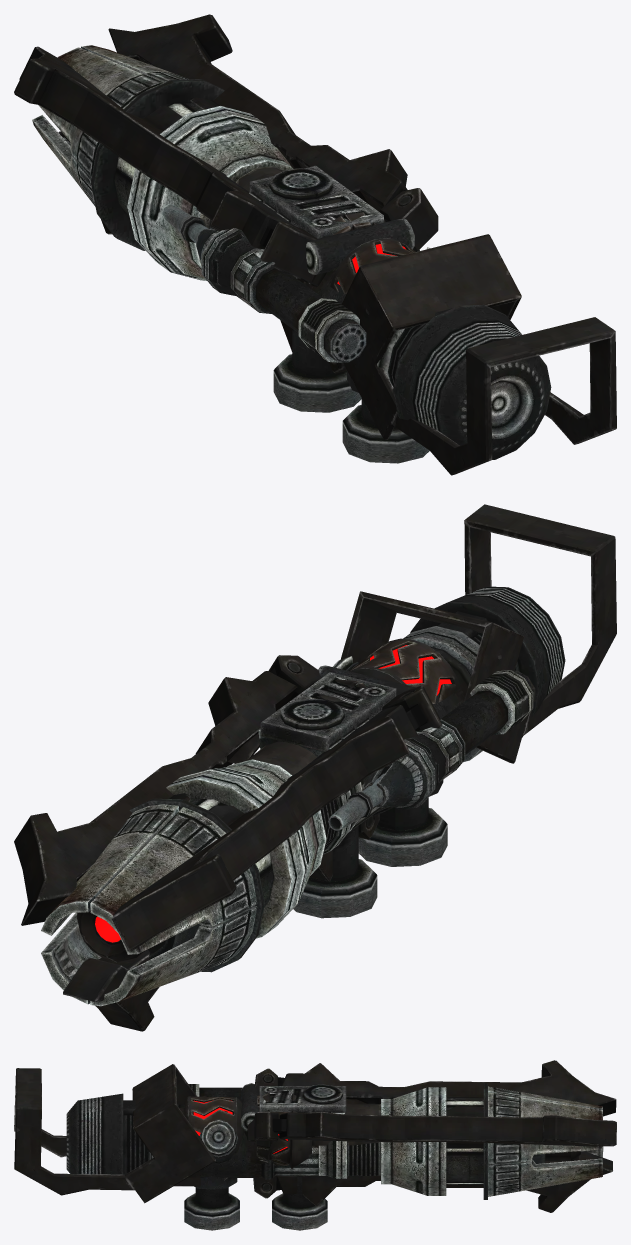
Rendered from heavy.glb.
3 views of the same model, one above another, from view 1: azimuth 30°, elevation 25°; view 2: azimuth 150°, elevation 25°; view 3: azimuth 270°, elevation 25° (orthographic). The views are drawn at different scales.
Visible parts, largest first — view 1: Object_48, Object_55; view 2: Object_48, Object_55, Object_54; view 3: Object_55, Object_48.
Boxes of the visible parts, x1,y1,x2,y2 form: Object_48: (32,45,551,463); Object_55: (14,14,616,475); Object_48: (41,586,565,1006); Object_55: (14,504,616,1031); Object_54: (95,645,451,942); Object_55: (14,1060,616,1212); Object_48: (66,1083,603,1230).
Bounding box in the file's own units: 0.2639 × 0.2486 × 1.
3 materials, 2 textured.
